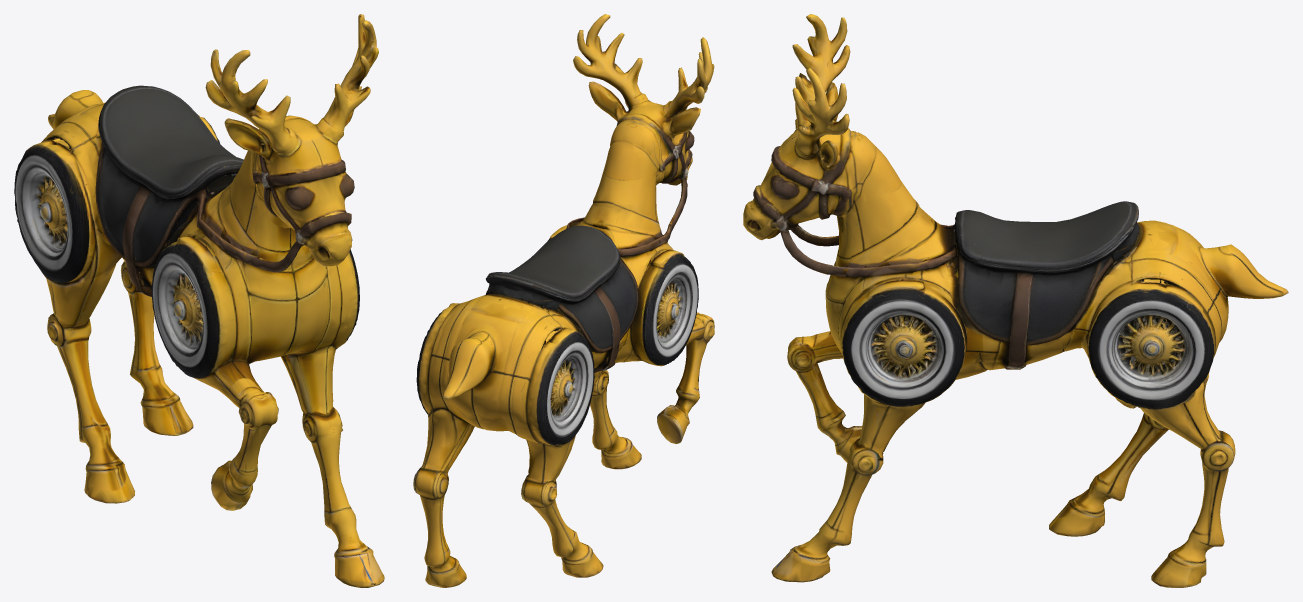
File: deer.glb
3 views of the same model, side by side, from view 1: azimuth 30°, elevation 25°; view 2: azimuth 150°, elevation 25°; view 3: azimuth 270°, elevation 25° (orthographic). The views are drawn at different scales.
Bounding box in the file's own units: 0.5893 × 1.91 × 1.85.
1 material, 1 textured.
